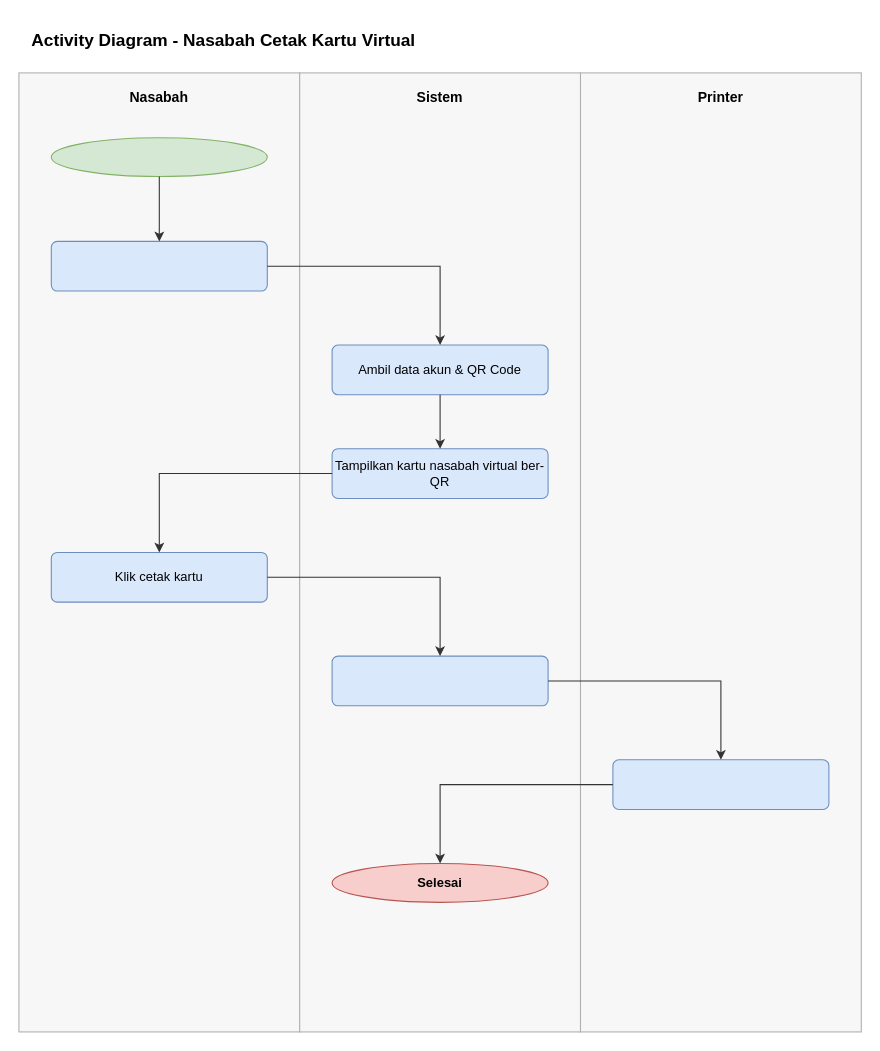
This 880x1051 diagram has some shape labels left out. The shapes that lost their labels are listed below. From the top down, each one's centre as x and y in pixels, then its label:
At point 158,157: "Mulai".
At point 158,265: "Buka dashboard".
At point 439,680: "Render kartu".
At point 720,784: "Cetak kartu".
